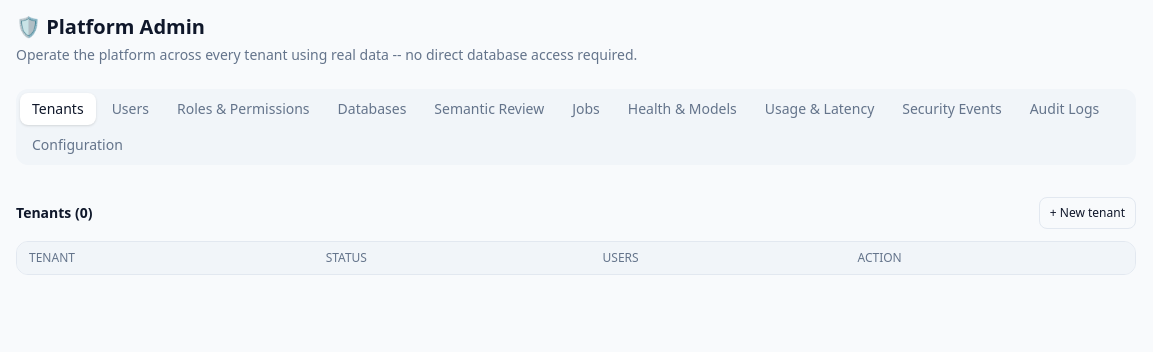
Scenario: PlatformAdmin › shows security events and can filter by severity
Click the tab "Security Events" at (952, 109), box top-left (890, 93), bottom-right (1014, 125)
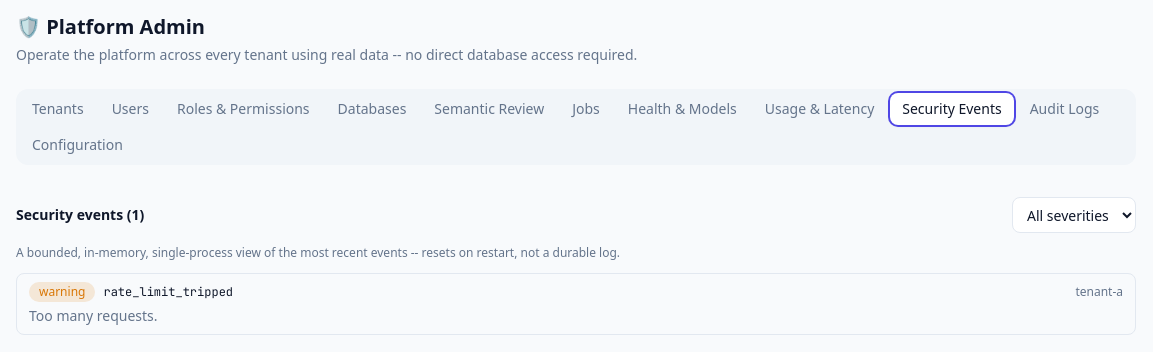
Expected: the text "rate_limit_tripped" is shown, top-left (103, 284), bottom-right (233, 300)
Expected: the text "Too many requests." is shown, top-left (29, 306), bottom-right (158, 325)
